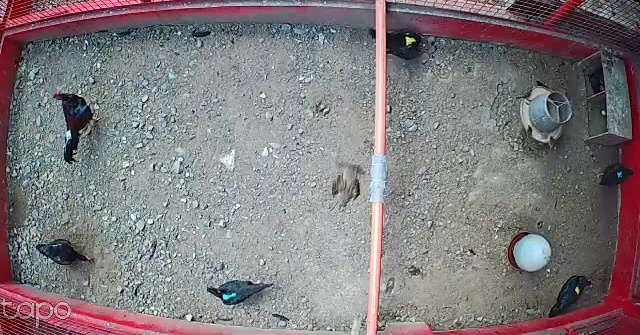Chicken: (368, 23, 434, 63), (207, 273, 269, 307), (35, 235, 95, 266), (549, 275, 593, 317), (590, 160, 635, 192)
Rooster: (54, 88, 105, 165)
Saddle_Color_Blue: (617, 171, 622, 178)
Saddle_Color_Yellow: (406, 34, 417, 46), (575, 288, 579, 293)
